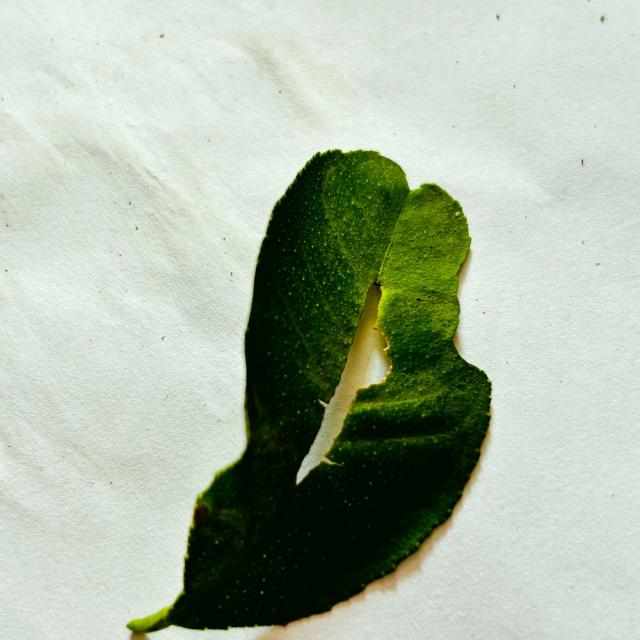Deficiency Leaf: (298, 287, 389, 481), (190, 282, 252, 484), (455, 249, 501, 378)
Lemon: (128, 150, 491, 632)
